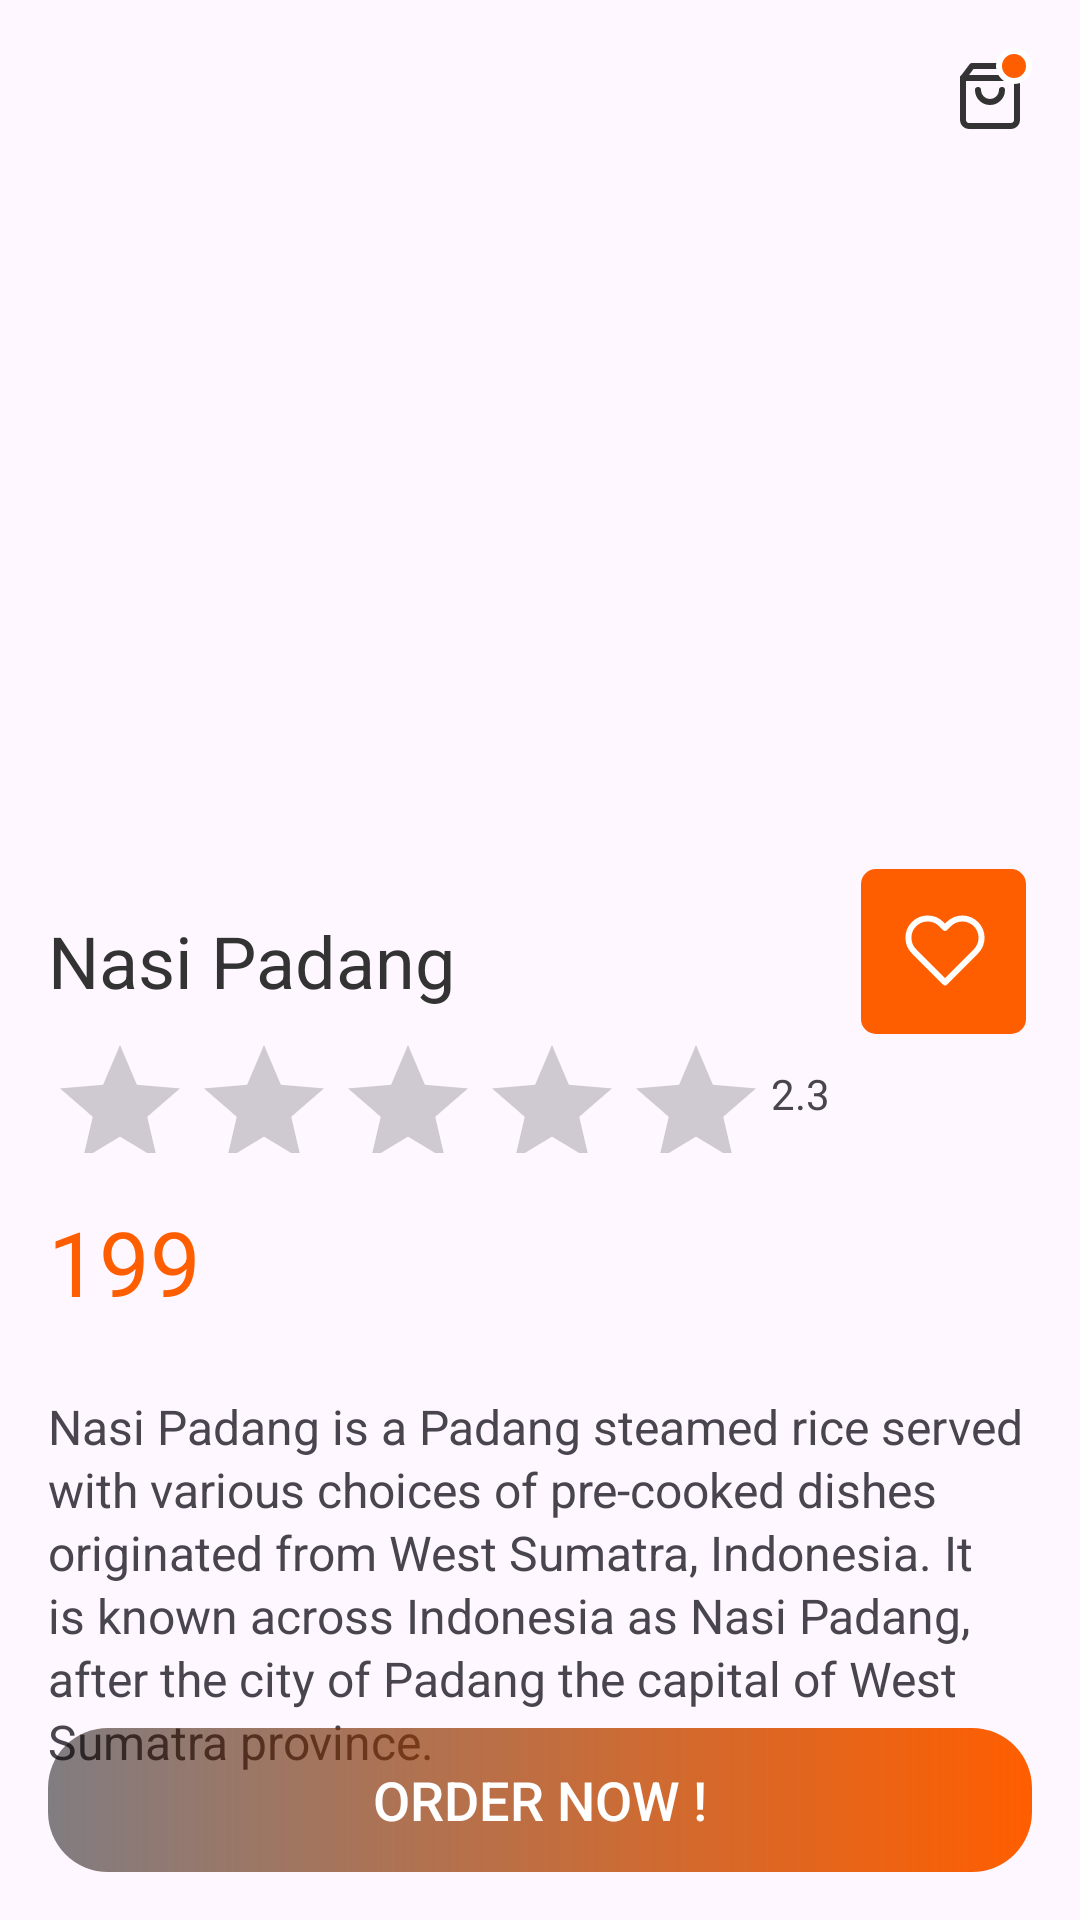

Icon bounding boxes for this 1080 × 1920 phone screenshot, format Rect(x1, y1, x2, y2):
cart: Rect(960, 54, 1026, 129)
like: Rect(861, 869, 1026, 1034)
